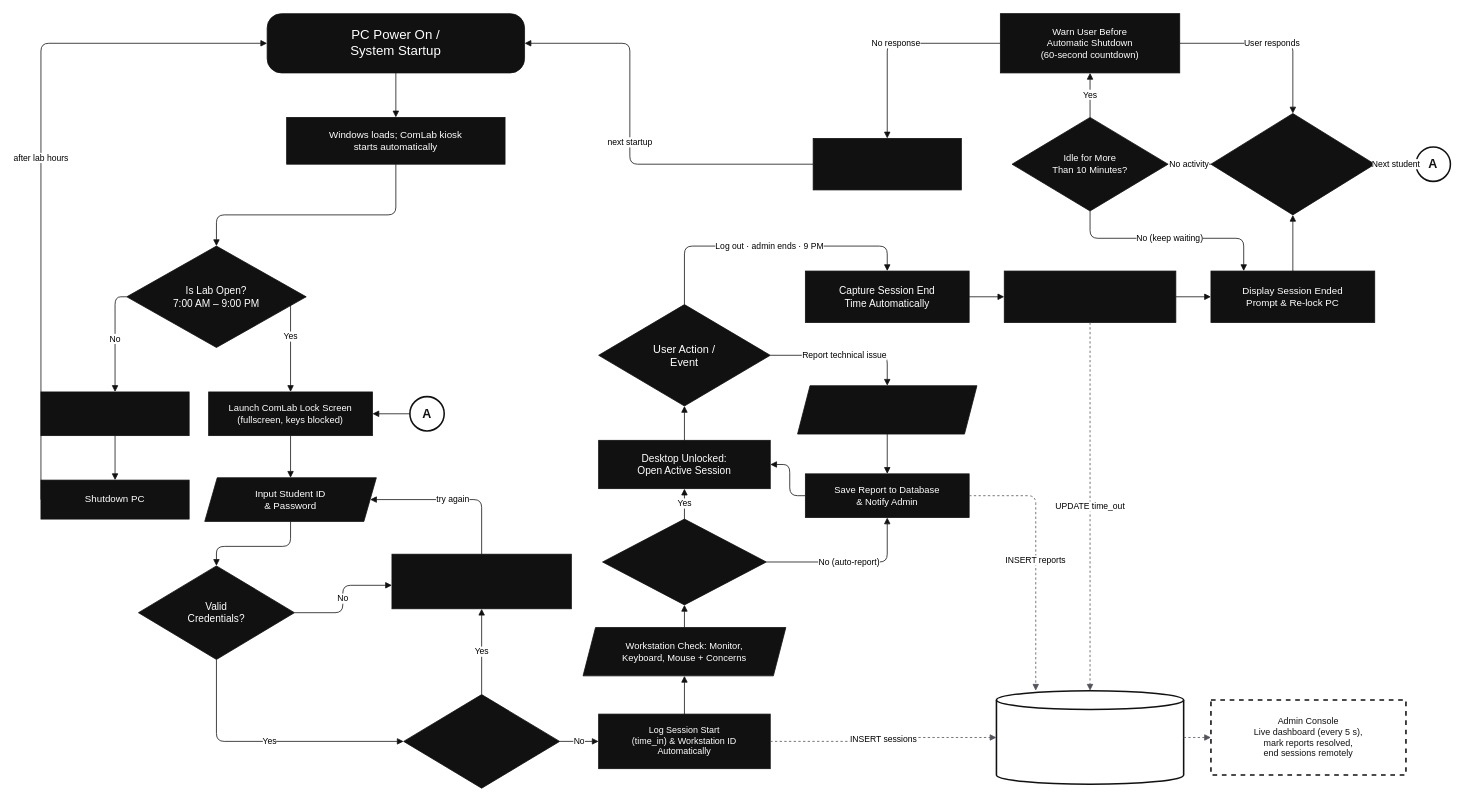
Some shapes in this 1464 by 802 pixel diagram are drawn without their labels. Each missing label, with the centre of its shape:
Active session on another PC?: point (481, 741)
All Equipment Working?: point (684, 561)
Calculate Session Duration & Save Log (time_out): point (1089, 296)
Display 'Lab Closed' Overlay: point (114, 413)
Display Error: invalid ID / password, or already logged in on another PC: point (481, 581)
MySQL Database sessions · equipment_checks reports · pcs: point (1089, 737)
Next Student or Inactivity?: point (1292, 164)
Submit Issue Ticket (category, priority, photo): point (887, 409)
System Shutdown (PC marked offline): point (886, 164)
